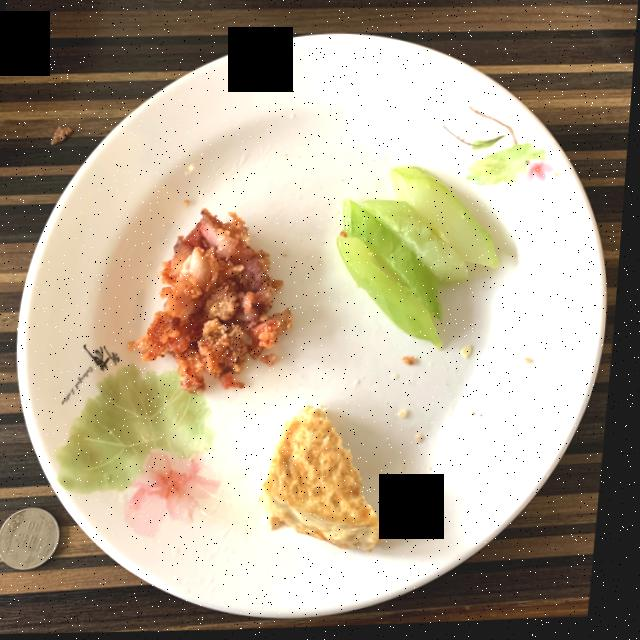coin: (6, 507, 68, 569)
red grilled pork: (133, 210, 297, 393)
